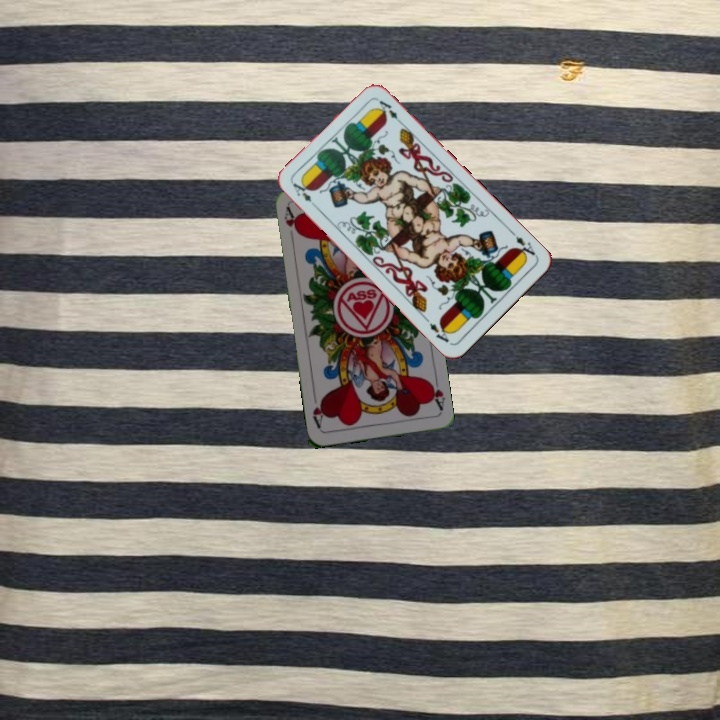EA: (507, 227, 538, 262), (289, 179, 320, 211)
HA: (424, 373, 447, 414), (280, 204, 301, 245)
